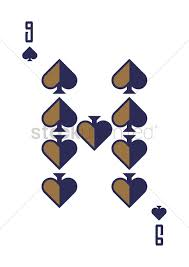nine of spades: (9, 12, 181, 257)
